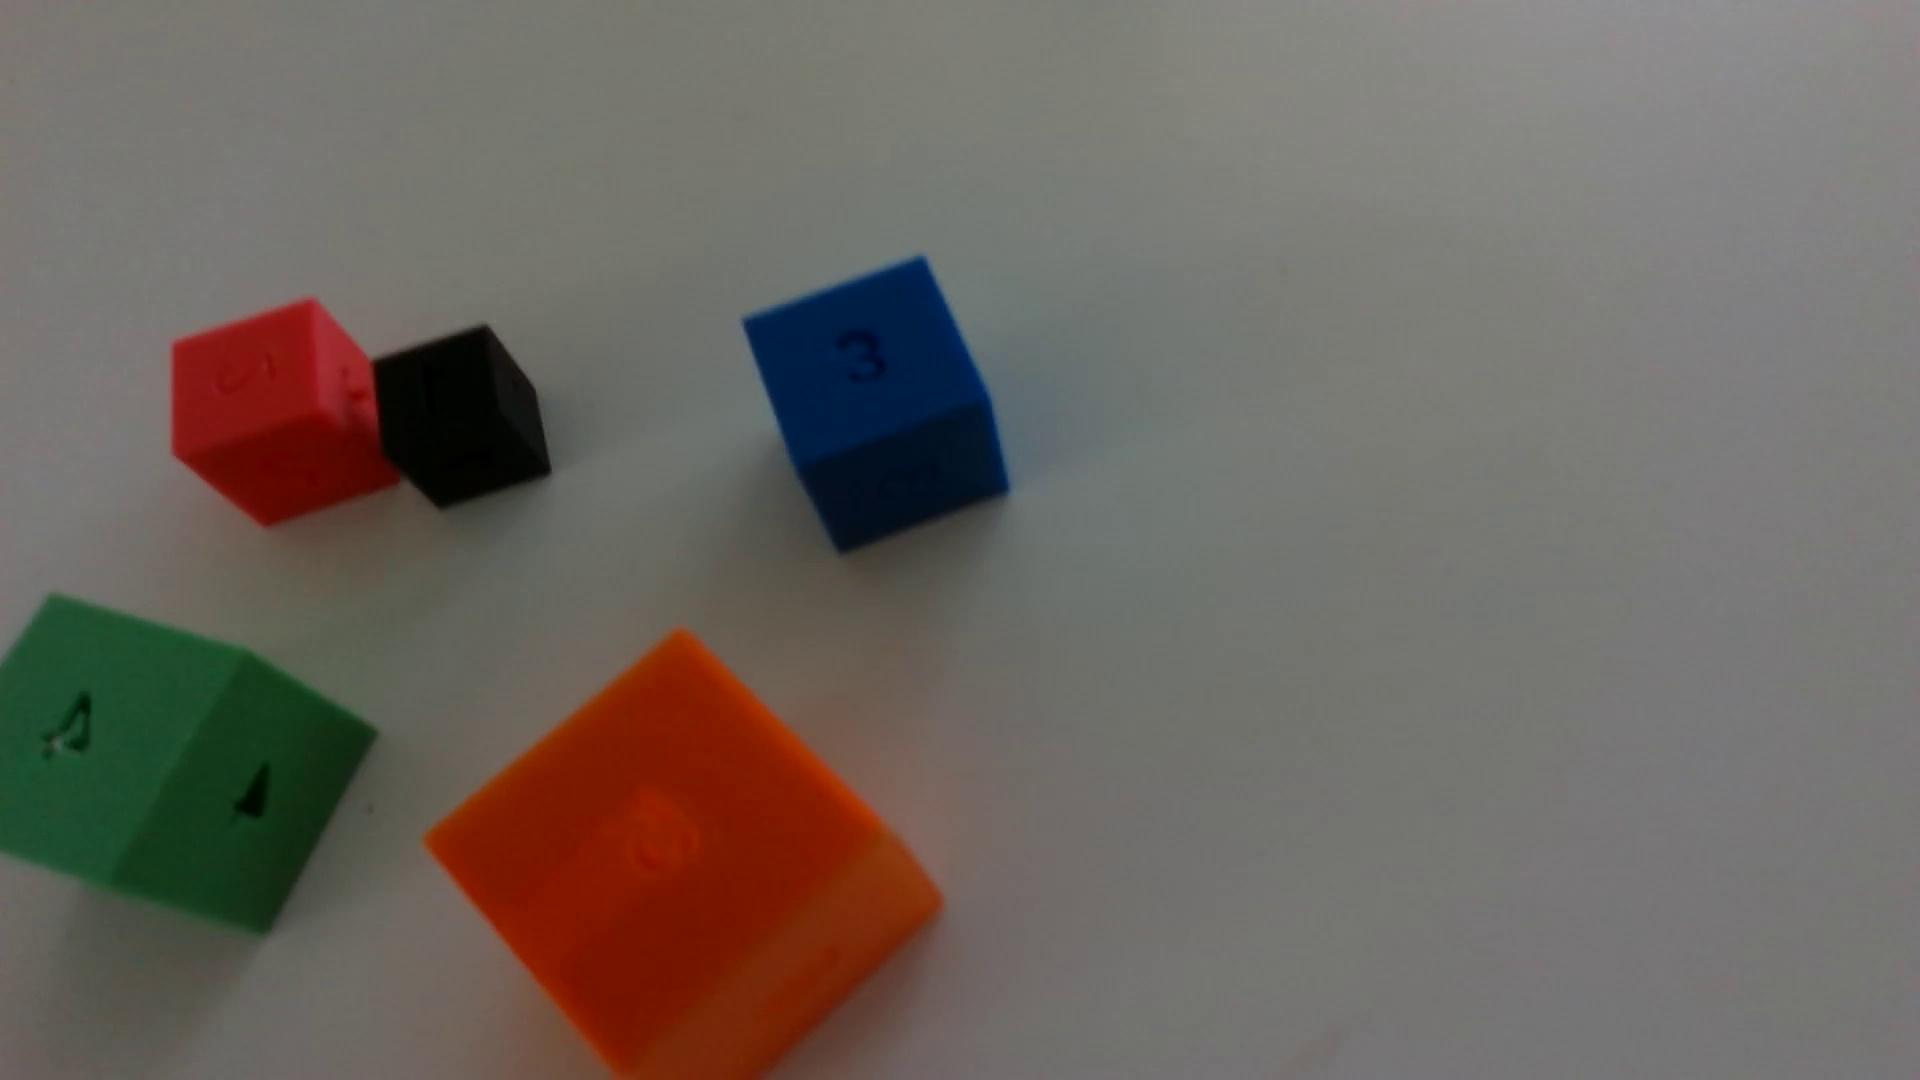black: (373, 326, 551, 509)
blue: (744, 258, 1009, 553)
green: (0, 597, 375, 934)
orange: (426, 632, 942, 1080)
red: (171, 301, 398, 527)
